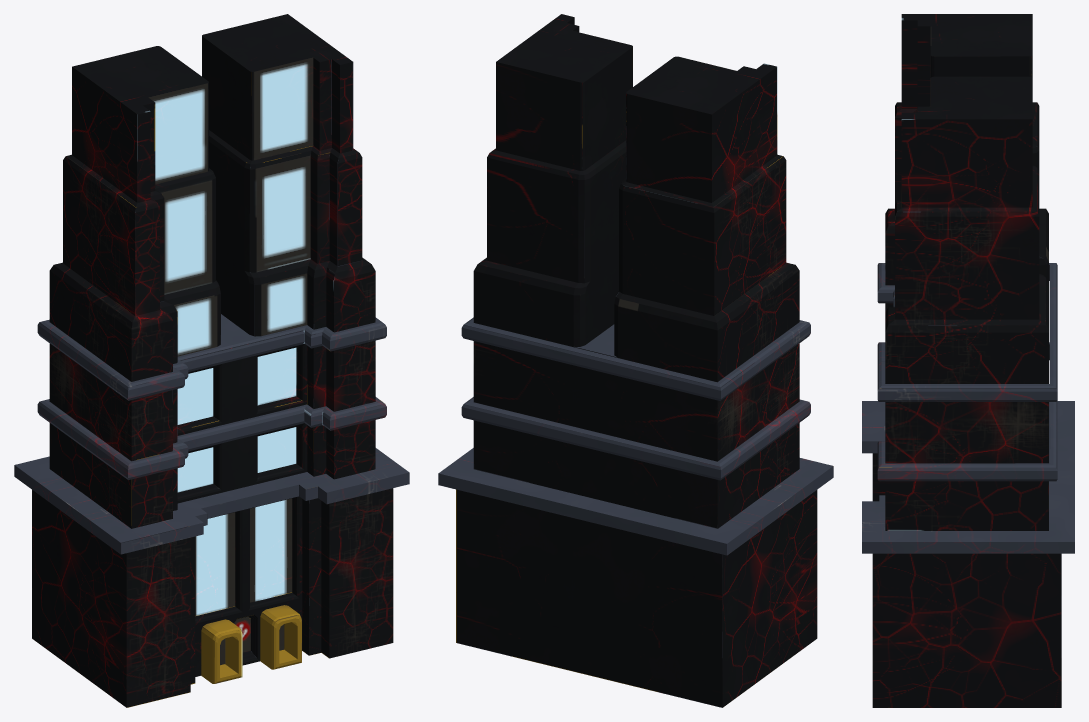
File: Konpeki plaza.fbx
3 renders of one model, left to right at view 1: azimuth 30°, elevation 25°; view 2: azimuth 150°, elevation 25°; view 3: azimuth 270°, elevation 25°, orthographic.
Visible parts, largest first — view 1: Cube.002; view 2: Cube.002; view 3: Cube.002.
Part boxes in pixels (x1,y1,x2,y2): Cube.002: (14, 14, 409, 707); Cube.002: (438, 14, 833, 707); Cube.002: (862, 14, 1074, 707).
Size of the model in its own units: 7773 by 14833 by 4964.
1 material, 1 textured.
